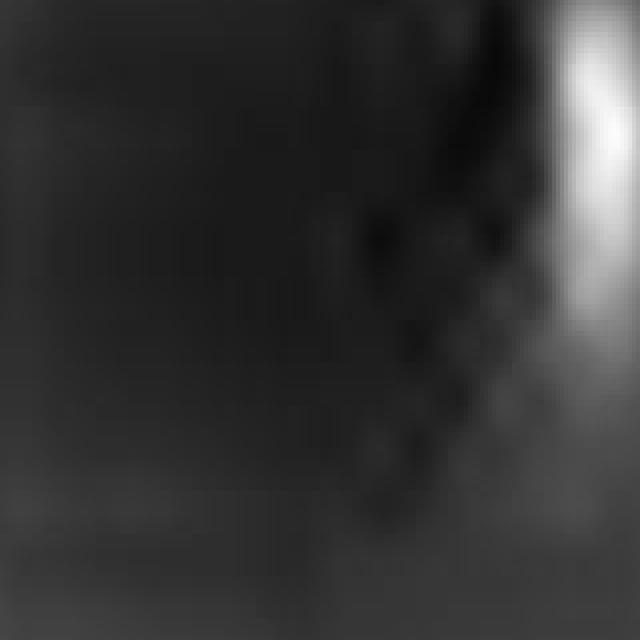person: (509, 1, 640, 481)
